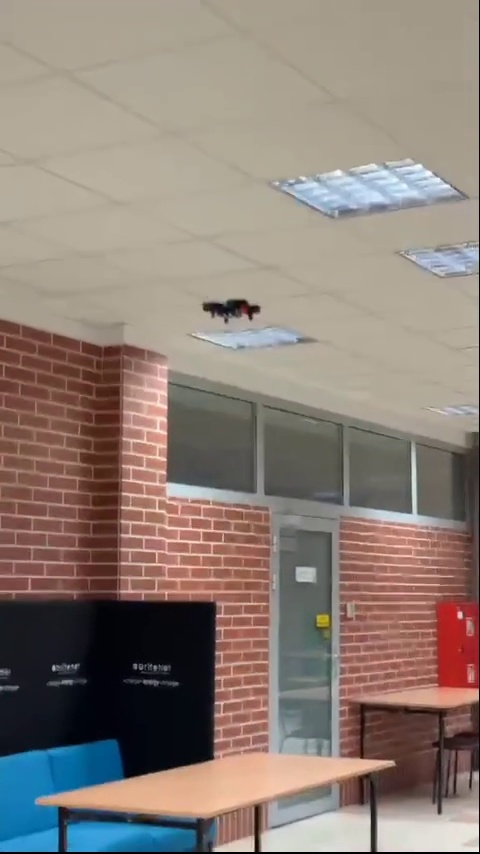drone: (200, 295, 258, 323)
